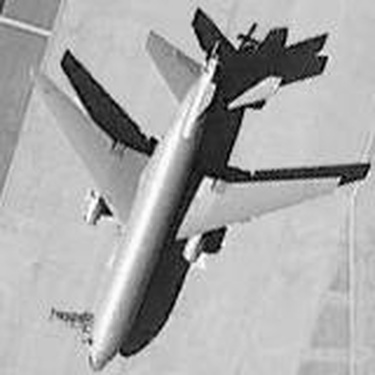airplane: (19, 27, 365, 371)
